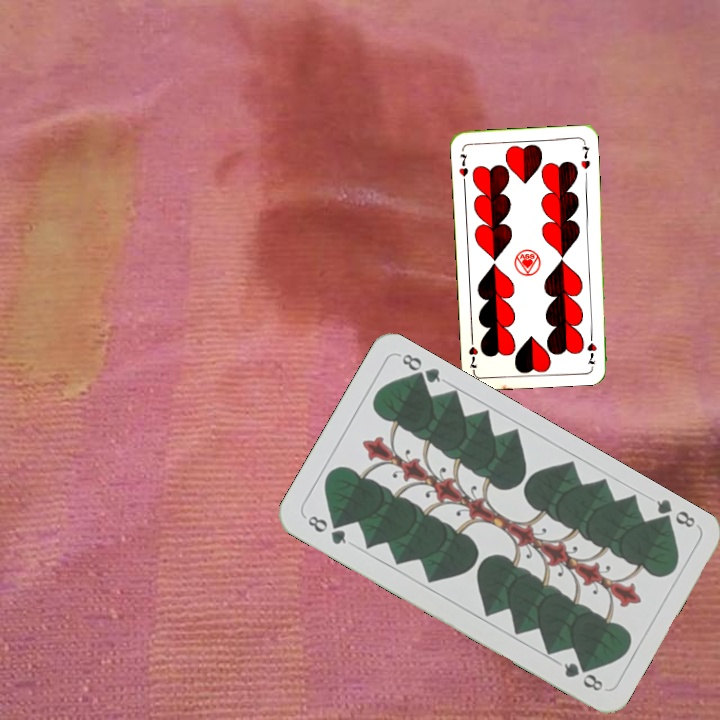G8: (649, 495, 698, 531), (303, 511, 349, 547)
H7: (584, 328, 599, 367), (455, 150, 471, 186)
